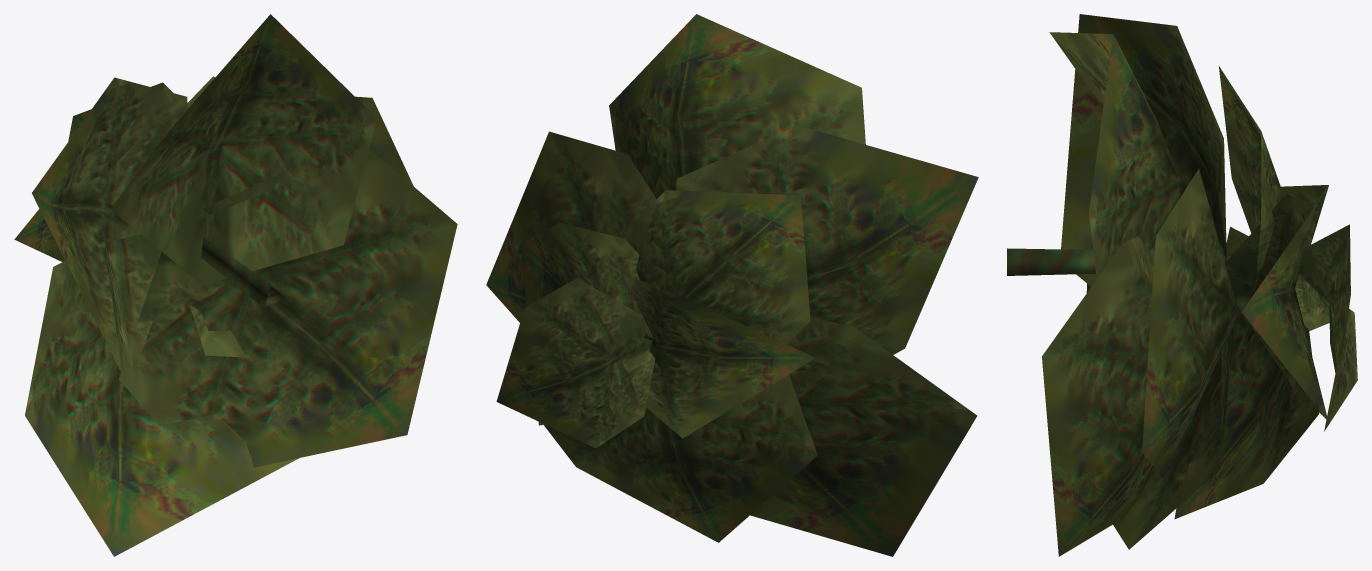
Rendered from Hogweed_Small_vcta.fbx.
3 renders of one model, left to right at view 1: azimuth 30°, elevation 25°; view 2: azimuth 150°, elevation 25°; view 3: azimuth 270°, elevation 25°, orthographic. The views are drawn at different scales.
Visible parts, largest first — view 1: Hogweed_Small; view 2: Hogweed_Small; view 3: Hogweed_Small.
Part boxes in pixels (bbox=[...]): Hogweed_Small: bbox=[14, 14, 457, 556]; Hogweed_Small: bbox=[486, 14, 978, 556]; Hogweed_Small: bbox=[1007, 14, 1357, 556].
Bounding box in the file's own units: 2.99 × 3.14 × 1.89.
